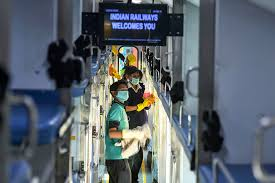mask: (110, 80, 131, 102), (122, 64, 141, 85)
